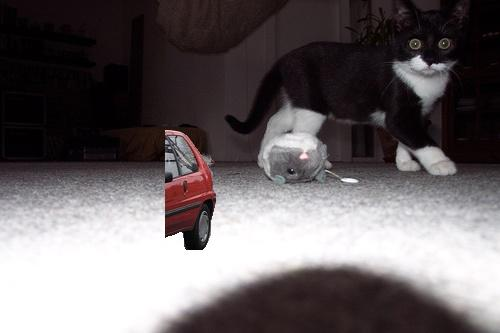tampered: (166, 131, 216, 250)
